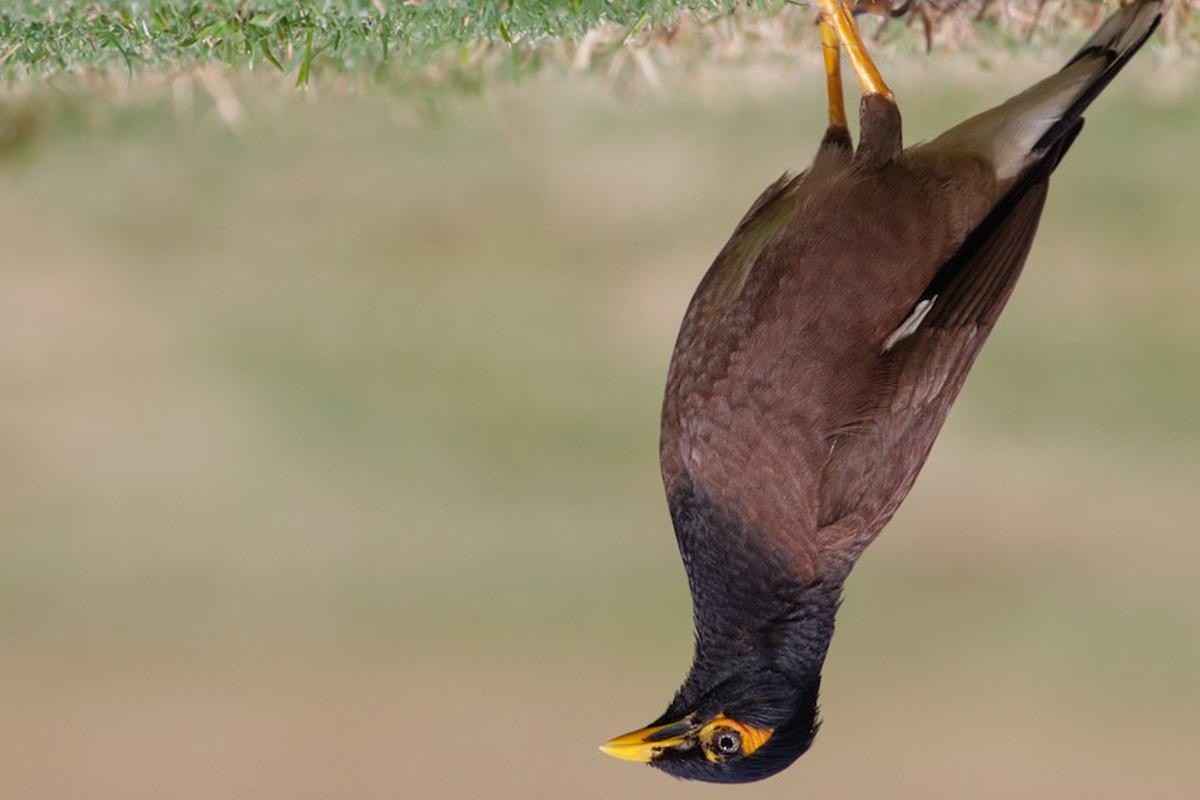myna: (598, 17, 1107, 781)
